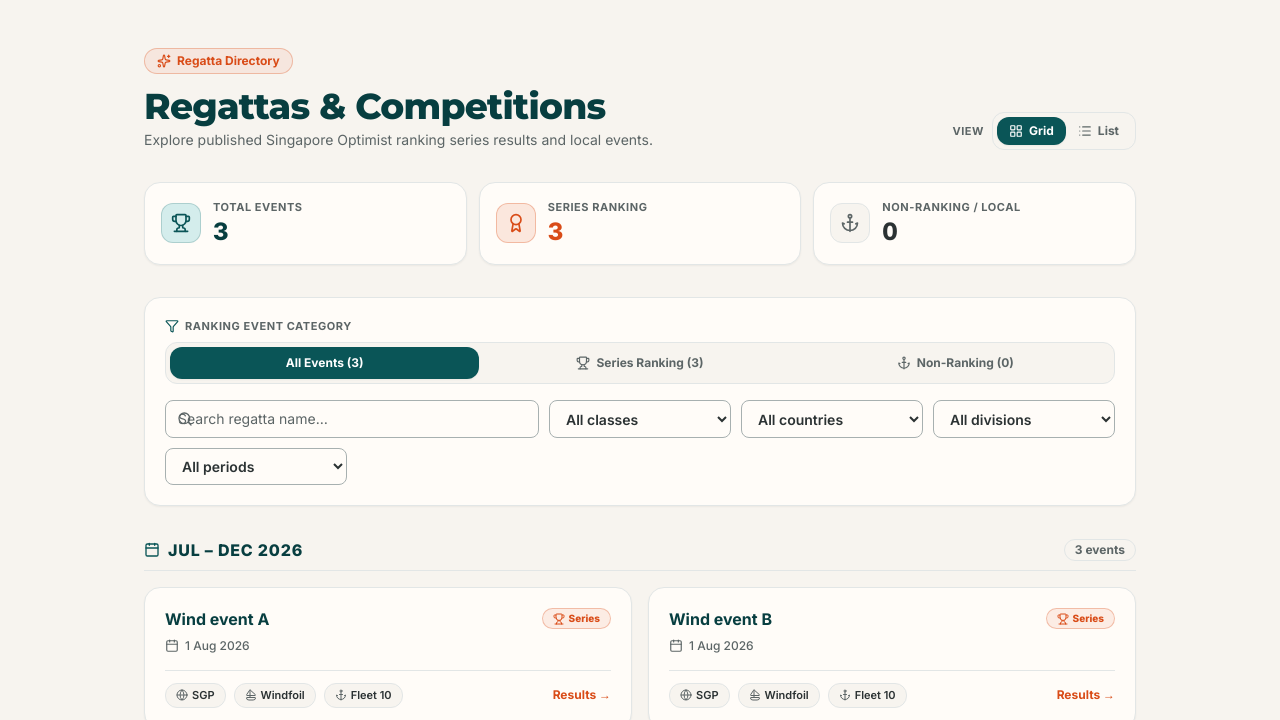
it: class listing aliases › offers one filter per class and includes every spelling without mixing disciplines
Select "Windfoil" in the dropdown named "Boat Class" at (640, 419), box [549,400,731,438]
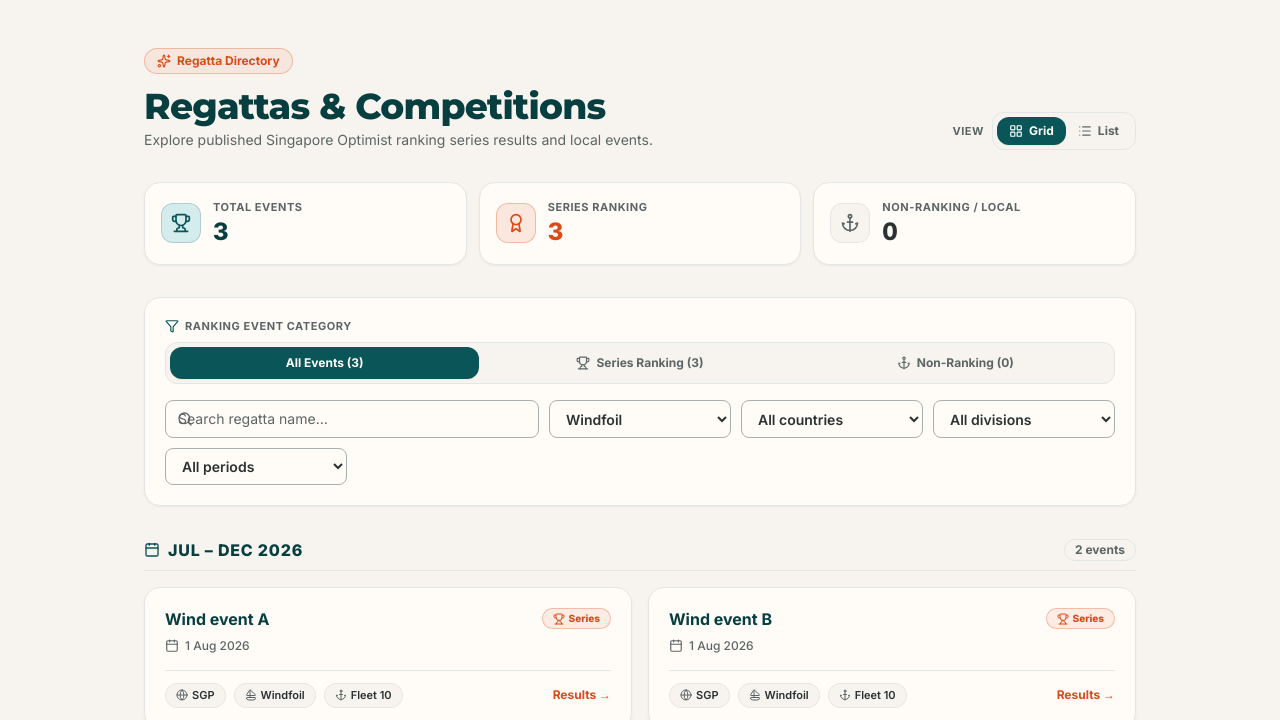
Expected: the heading "Wind event A" is shown, [165,608,269,630]
Expected: the heading "Wind event B" is shown, [669,608,772,630]
Type "unmatched" into the search field with placeholder "Search regatta name…" at (352, 419), box [165,400,539,438]
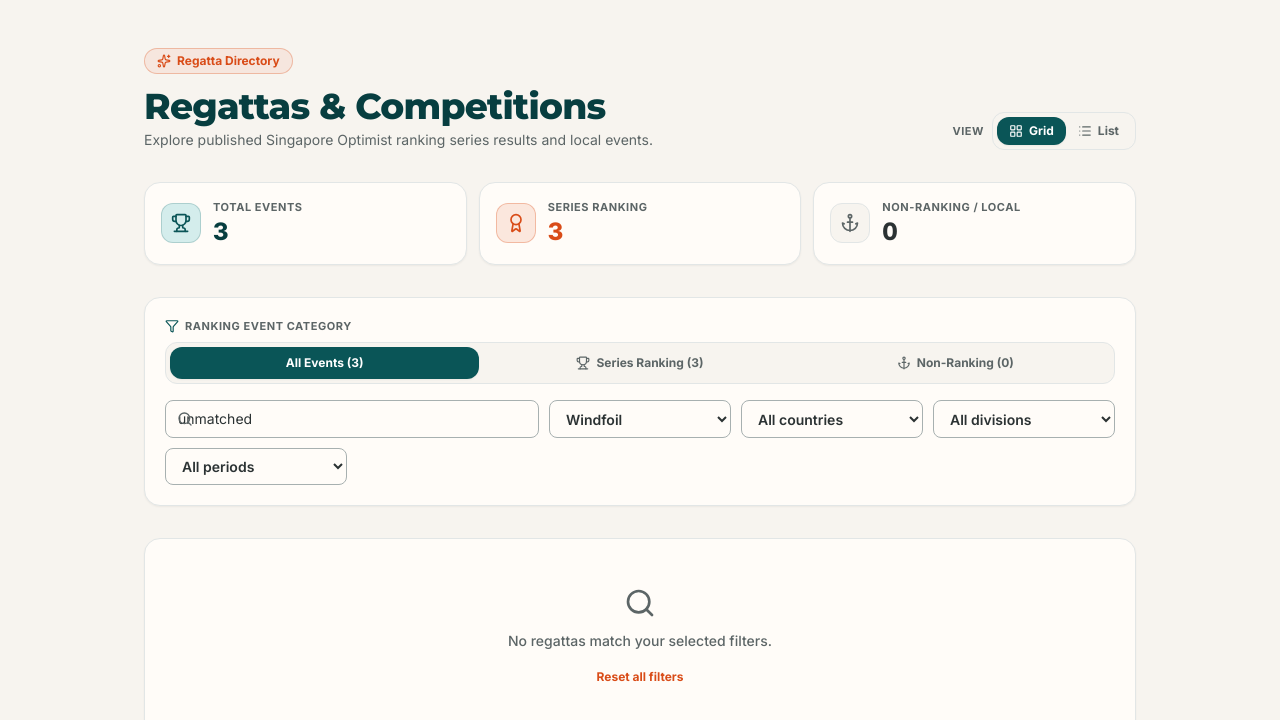
Click the button "Reset all filters" at (640, 677), box [596,669,683,685]
(page scrolled)
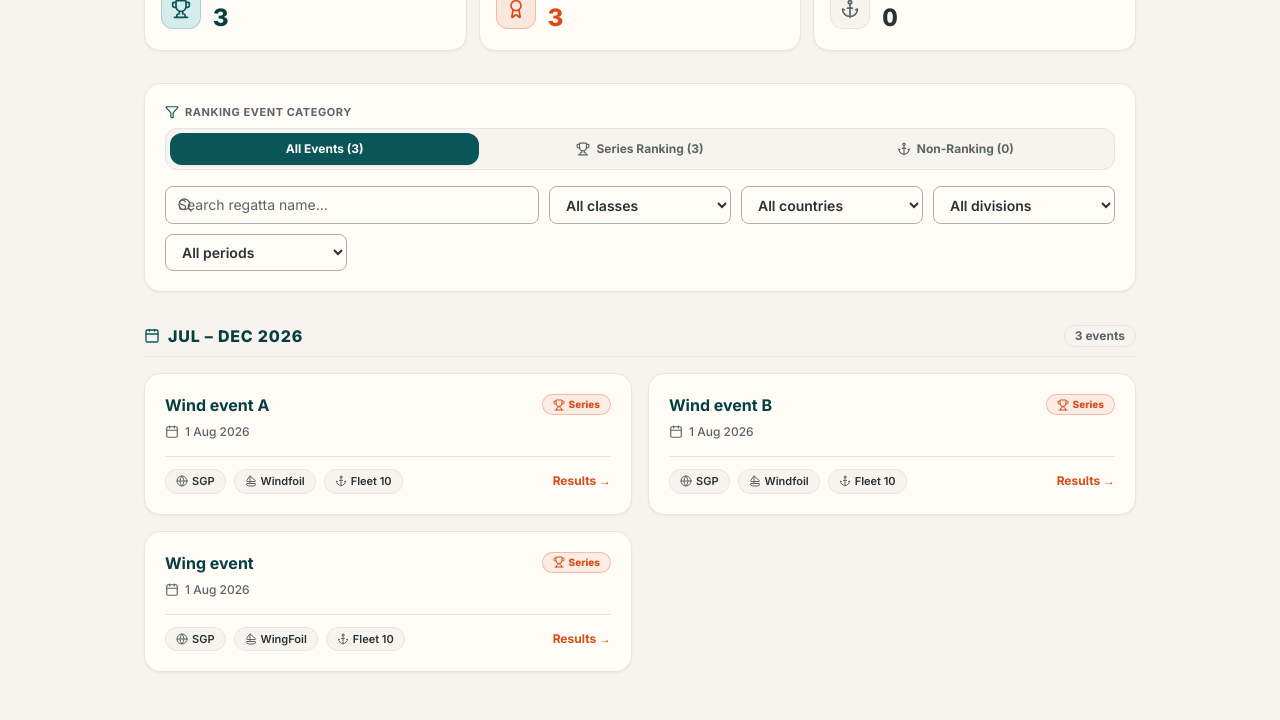
Now the heading "Wing event" is shown, box [165,552,254,574]
